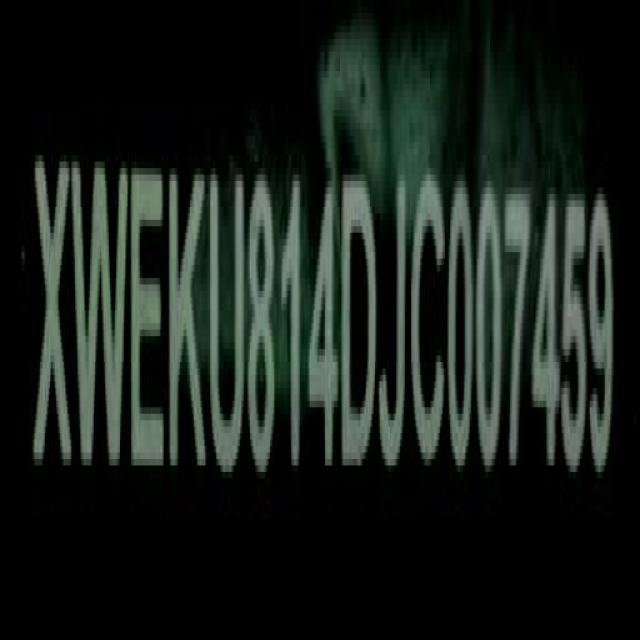0: (476, 173, 504, 477), (450, 171, 477, 475)
1: (282, 168, 304, 484)
4: (308, 172, 341, 482), (532, 179, 560, 479)
5: (563, 190, 589, 480)
7: (507, 175, 531, 482)
8: (248, 168, 277, 482)
9: (592, 190, 619, 481)
C: (413, 176, 447, 474)
D: (343, 173, 379, 478)
E: (129, 161, 166, 481)
J: (382, 173, 412, 476)
K: (170, 161, 210, 482)
U: (208, 165, 245, 479)
W: (74, 153, 131, 483)
X: (31, 149, 73, 485)
